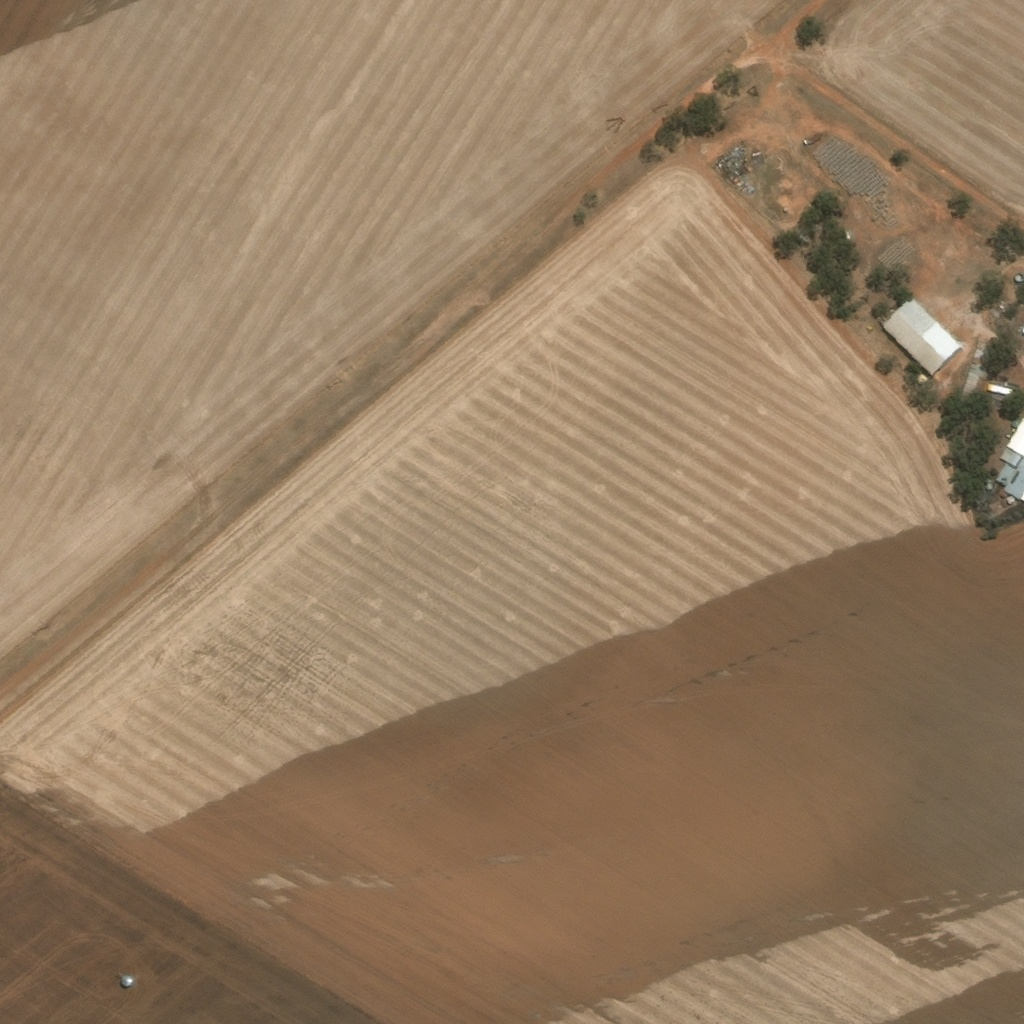0 no-damage: (880, 294, 961, 373), (960, 340, 987, 397), (994, 456, 1023, 500), (1005, 417, 1023, 455), (998, 448, 1020, 466), (986, 383, 1009, 394), (984, 478, 990, 489), (1005, 495, 1013, 503)
4 un-classified: (776, 194, 786, 204), (780, 176, 790, 185)
